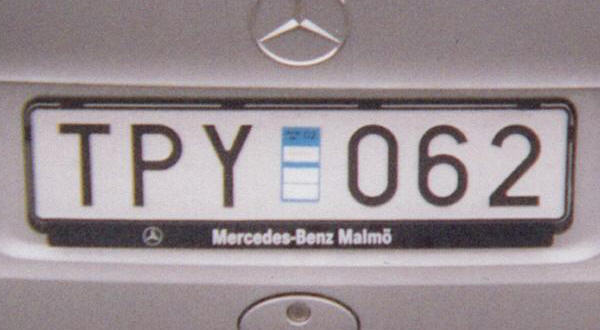license_plate: (25, 103, 575, 226)
